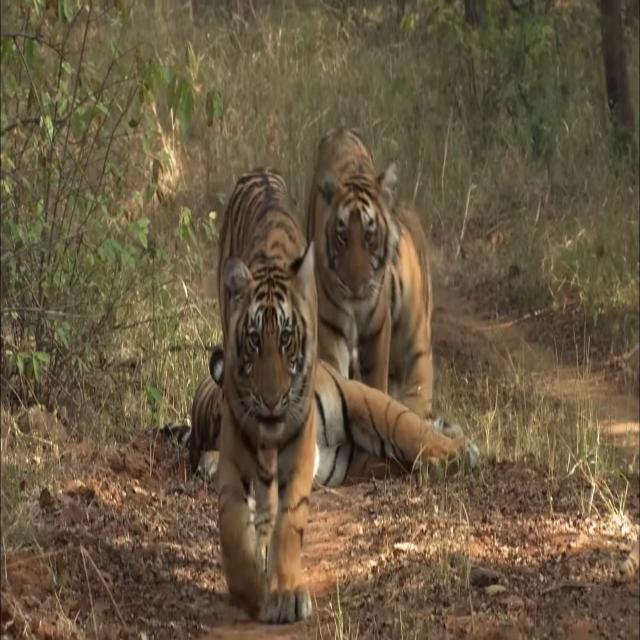tiger: (216, 169, 319, 627), (322, 122, 400, 388)
